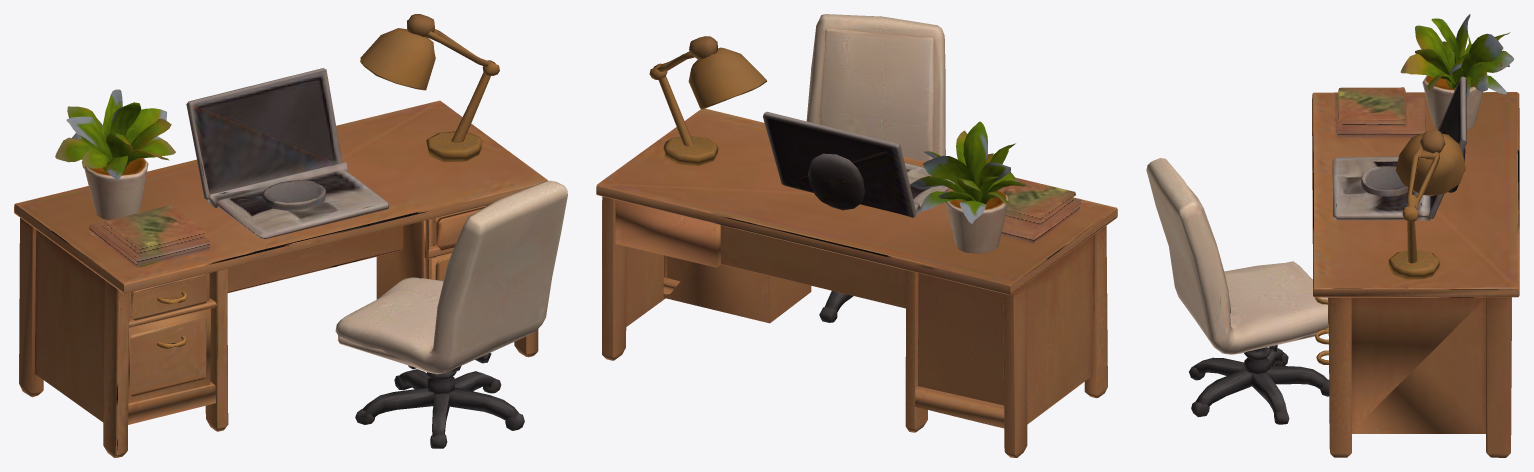
Rendered from home_office_set.glb.
The picture shows the model from 3 angles, left to right: view 1: azimuth 30°, elevation 25°; view 2: azimuth 150°, elevation 25°; view 3: azimuth 270°, elevation 25°; orthographic projection. The views are drawn at different scales.
Parts seen in each view (by area): view 1: geometry_0; view 2: geometry_0; view 3: geometry_0.
Part boxes in pixels (x1,y1,x2,y2): geometry_0: (14,14,567,457); geometry_0: (596,14,1117,457); geometry_0: (1146,14,1519,457).
Bounding box in the file's own units: 1 × 0.7134 × 0.8102.
1 material, 1 textured.
